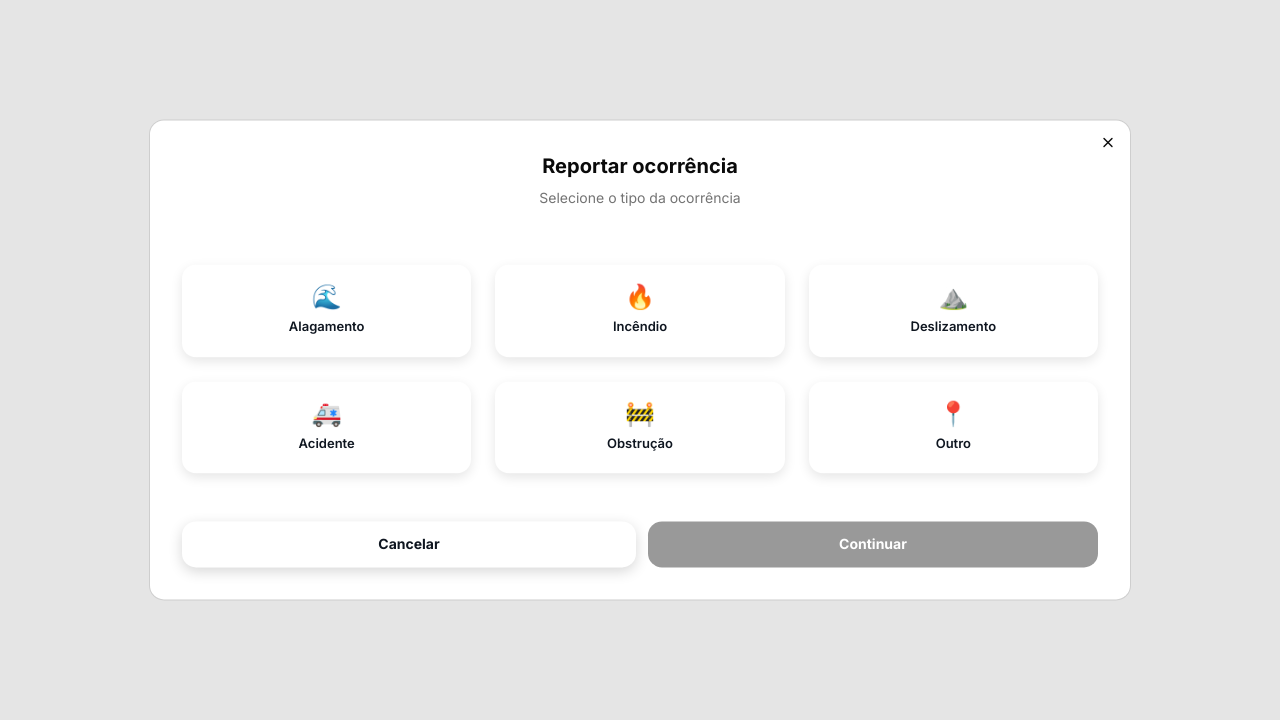
Test: ReportModal › desabilita o botao Continuar enquanto nenhum tipo esta selecionado
The image size is (1280, 720).
Expected: the button "Continuar" is disabled, [648, 522, 1098, 568]
Click the text "Alagamento": x=327, y=327 [289, 317, 364, 336]
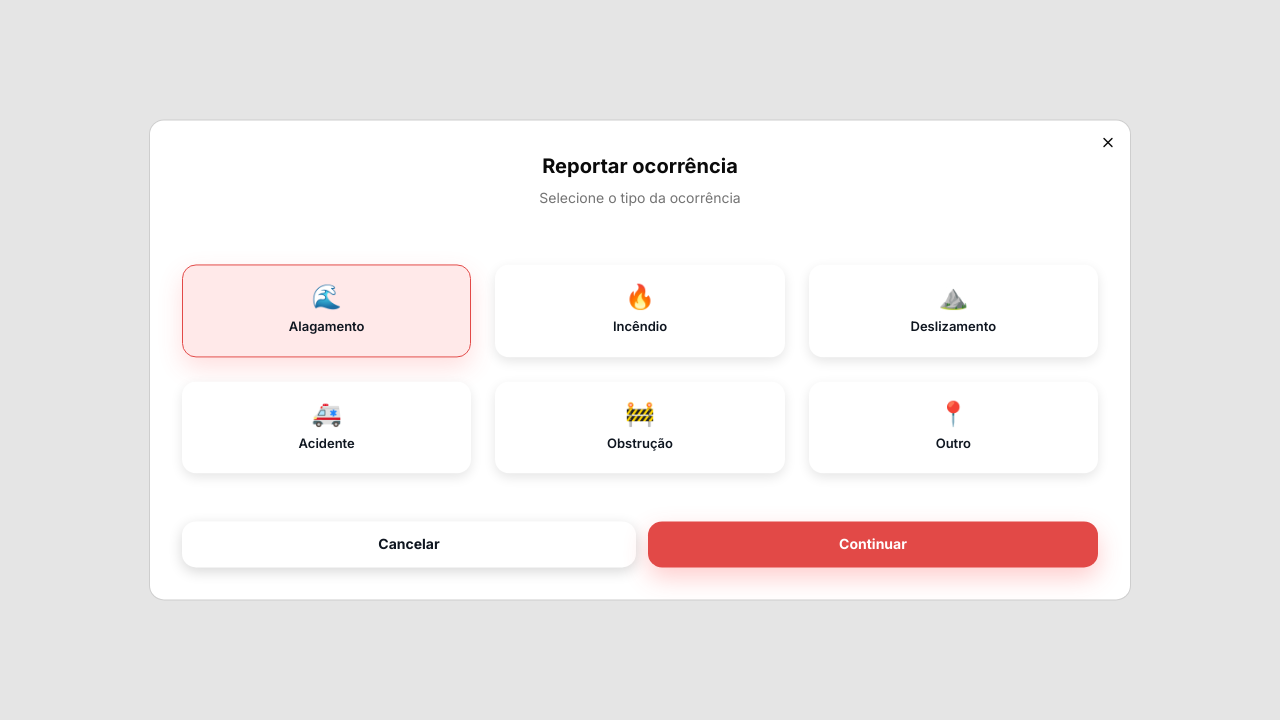
Now the button "Continuar" is enabled, box [648, 522, 1098, 568]
